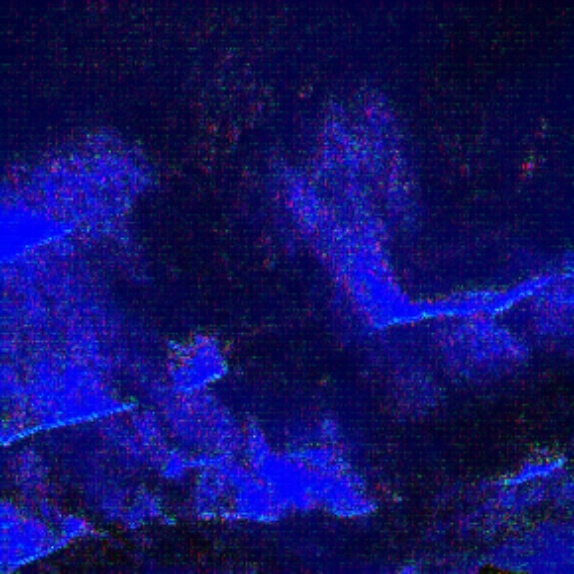rip_current: (77, 101, 421, 495)
